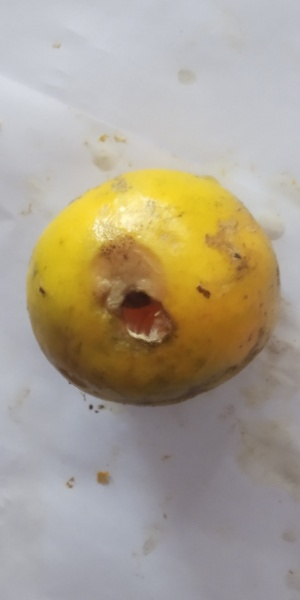BAD: (26, 167, 279, 409)
